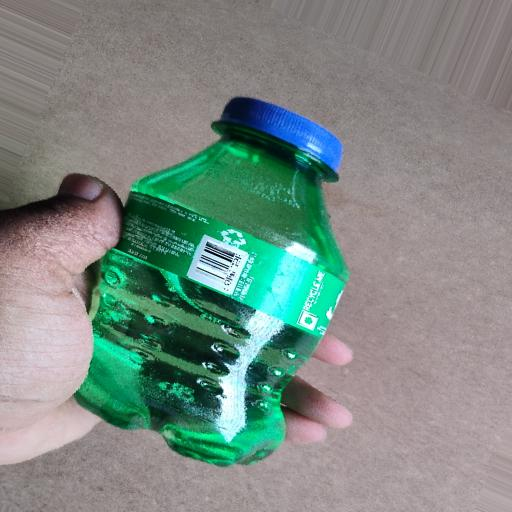Sprite: (11, 90, 389, 492)
